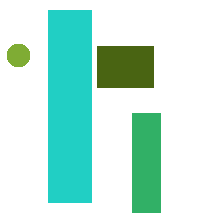circle: (7, 44, 29, 66)
rectangle: (48, 10, 91, 202), (132, 113, 160, 212), (97, 46, 153, 87)
